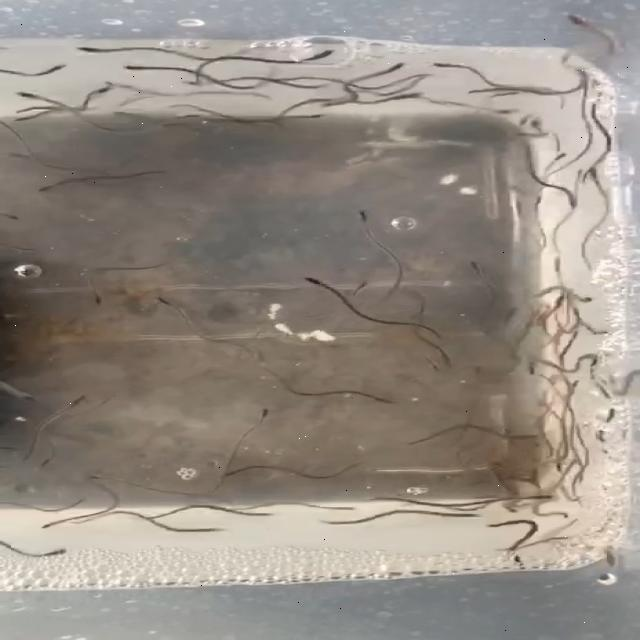inactive_glass_eel: (52, 39, 114, 61), (494, 424, 548, 448), (288, 104, 349, 125), (341, 197, 376, 227), (498, 487, 556, 505), (341, 277, 380, 303), (419, 352, 459, 376), (288, 48, 340, 66), (456, 256, 498, 278), (45, 542, 89, 562), (304, 270, 344, 292), (558, 167, 600, 187), (1, 90, 46, 108), (516, 117, 556, 137), (30, 178, 74, 194), (391, 88, 437, 102), (22, 518, 67, 532), (377, 393, 408, 413), (498, 540, 536, 556), (554, 292, 592, 308), (84, 83, 115, 102), (46, 395, 86, 409), (510, 361, 544, 377), (574, 354, 628, 364), (35, 63, 68, 79), (374, 61, 408, 76), (32, 457, 58, 475), (5, 148, 38, 162), (434, 58, 470, 70), (244, 408, 274, 422), (558, 377, 586, 392), (116, 65, 142, 78), (84, 469, 110, 481)
